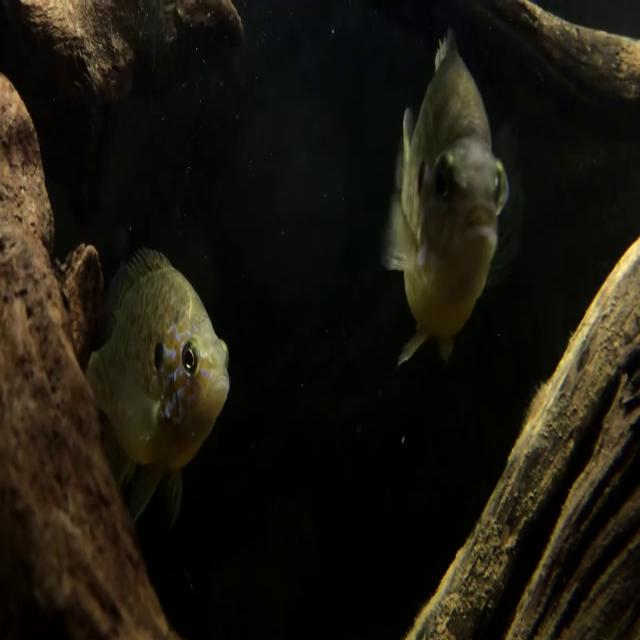Gunes Levregi: (380, 27, 510, 370), (83, 244, 231, 527)
